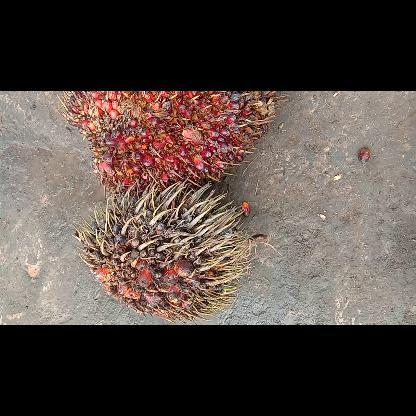TBS abnormal: (78, 179, 254, 321)
TBS masak: (55, 90, 285, 192)
